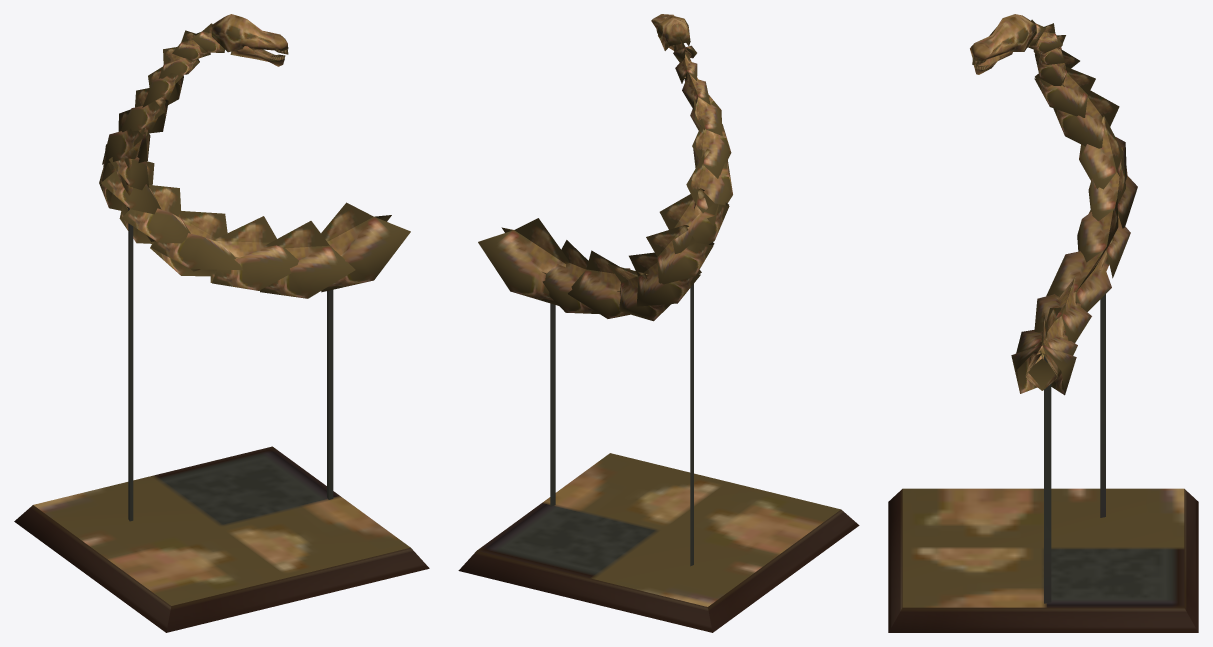
File: int_din_apt_a.dae
3 renders of one model, left to right at view 1: azimuth 30°, elevation 25°; view 2: azimuth 150°, elevation 25°; view 3: azimuth 270°, elevation 25°, orthographic. The views are drawn at different scales.
Visible parts, largest first — view 1: int_din_apt_a; view 2: int_din_apt_a; view 3: int_din_apt_a.
Part boxes in pixels (x1,y1,x2,y2): int_din_apt_a: (14, 14, 429, 632); int_din_apt_a: (458, 14, 859, 632); int_din_apt_a: (888, 14, 1198, 632).
Bounding box in the file's own units: 69.17 × 115 × 58.65.
1 material, 1 textured.
